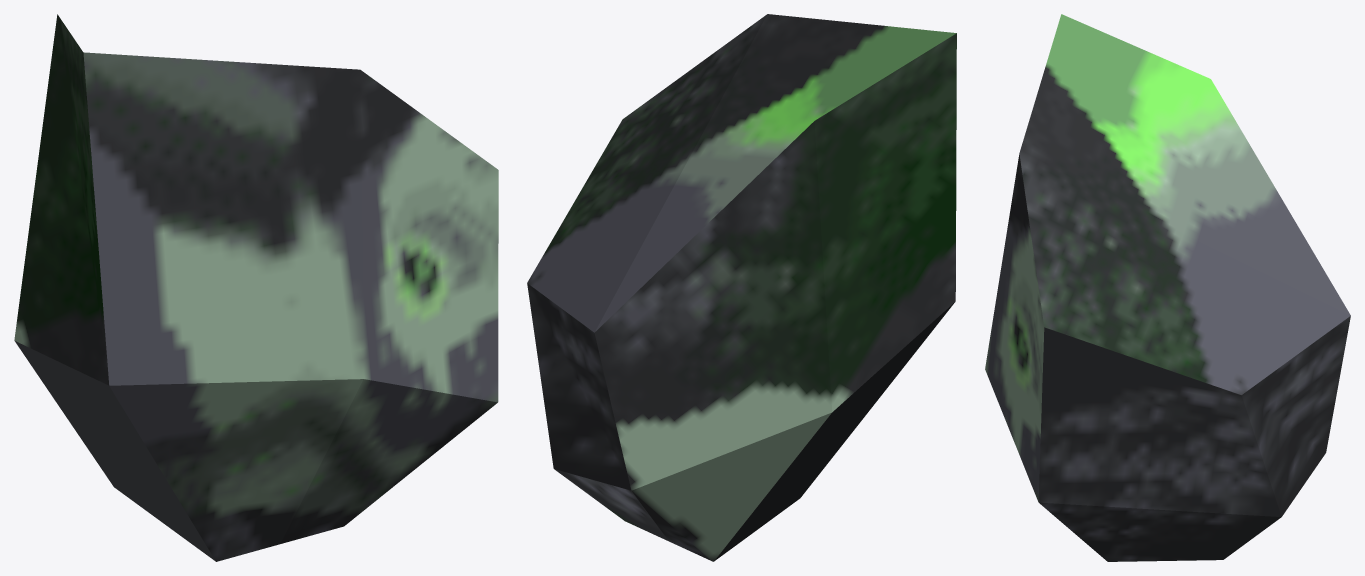
File: glaz3.fbx
3 views of the same model, side by side, from view 1: azimuth 30°, elevation 25°; view 2: azimuth 150°, elevation 25°; view 3: azimuth 270°, elevation 25° (orthographic). The views are drawn at different scales.
Parts seen in each view (by area): view 1: Cube; view 2: Cube; view 3: Cube.
Part boxes in pixels (x1=…): Cube: x1=14, y1=14, x2=498, y2=561; Cube: x1=527, y1=14, x2=956, y2=561; Cube: x1=985, y1=14, x2=1350, y2=561.
Bounding box in the file's own units: 213 × 286 × 216.
